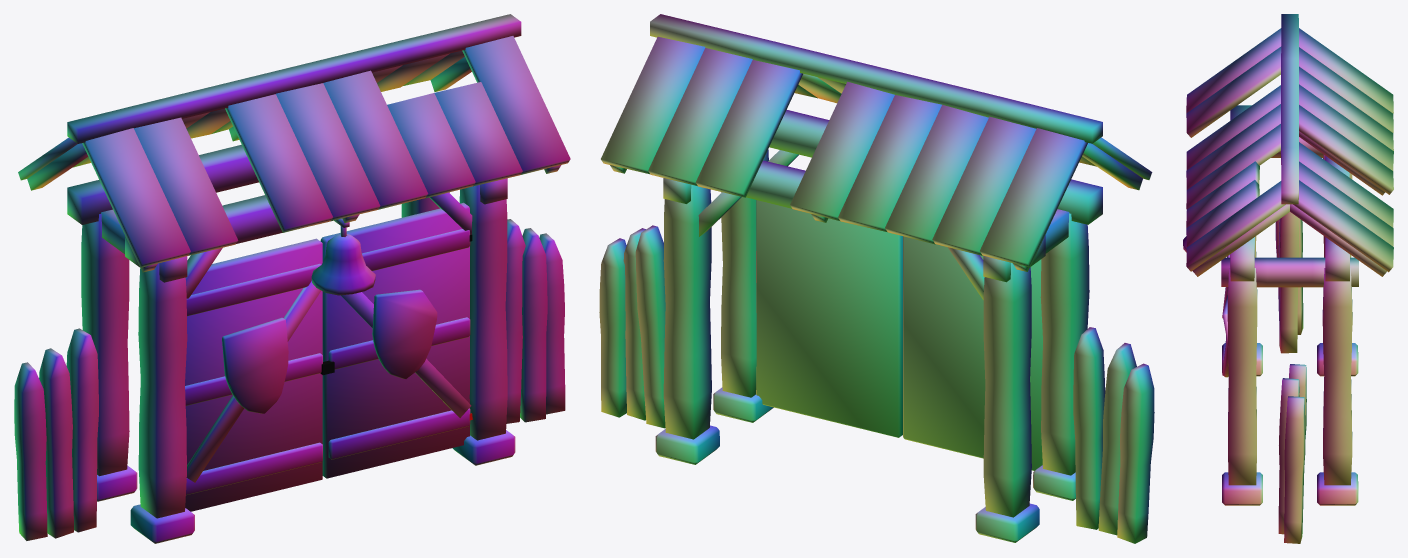
The model's file is SM_Prop_March_BoneyardGate.fbx.
The picture shows the model from 3 angles, left to right: view 1: azimuth 30°, elevation 25°; view 2: azimuth 150°, elevation 25°; view 3: azimuth 270°, elevation 25°; orthographic projection. The views are drawn at different scales.
Visible parts, largest first — view 1: SM_Prop_March_BoneyardGate; view 2: SM_Prop_March_BoneyardGate; view 3: SM_Prop_March_BoneyardGate.
Boxes of the visible parts, x1,y1,x2,y2 form: SM_Prop_March_BoneyardGate: [14, 14, 570, 543]; SM_Prop_March_BoneyardGate: [599, 14, 1154, 543]; SM_Prop_March_BoneyardGate: [1183, 14, 1393, 543].
Bounding box in the file's own units: 4.59 × 3.24 × 1.86.
